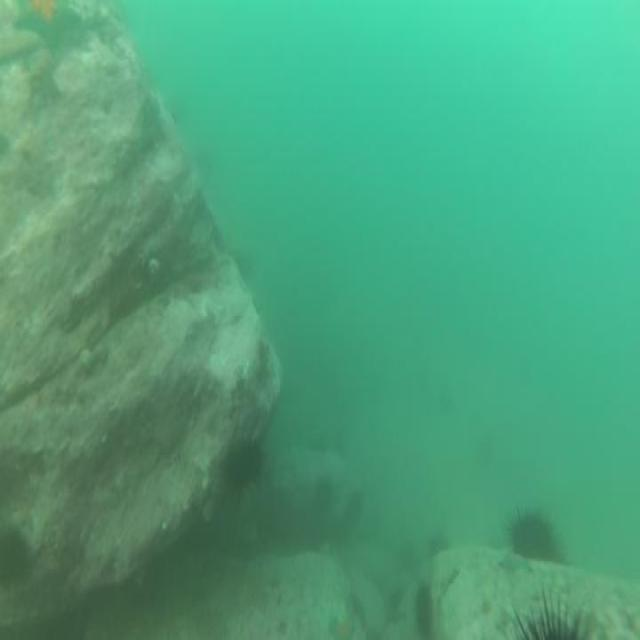echinus: (508, 591, 592, 640), (506, 501, 557, 563), (226, 432, 268, 496), (0, 523, 32, 597), (410, 581, 434, 640), (425, 526, 452, 566)
